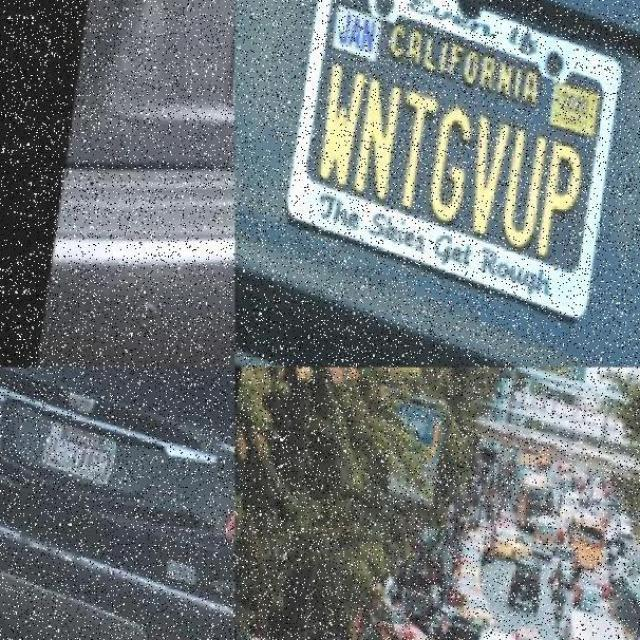License Plate: (258, 0, 634, 314), (34, 414, 111, 479)
